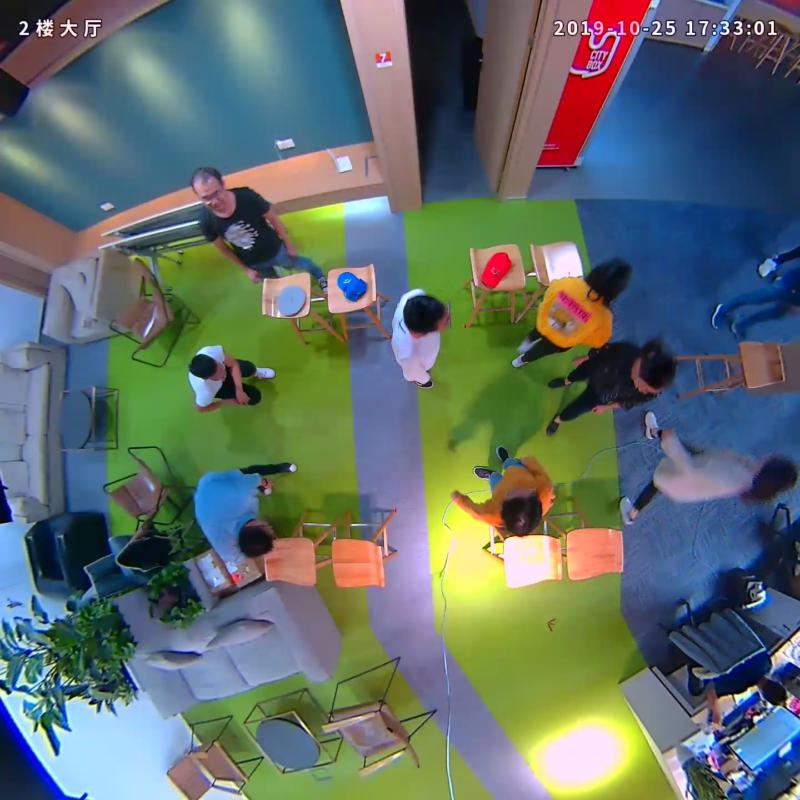head: (621, 340, 682, 400), (494, 488, 555, 543), (183, 160, 238, 218), (583, 250, 634, 311), (400, 287, 452, 341), (744, 448, 800, 497), (232, 514, 287, 561), (185, 350, 230, 385)
